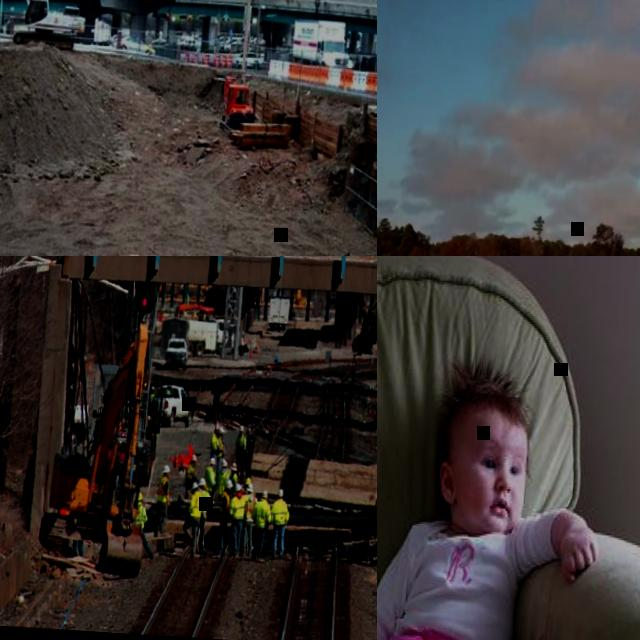Hardhat: (230, 462, 239, 472), (162, 464, 171, 473), (227, 479, 235, 489), (199, 477, 207, 487), (277, 488, 285, 497), (210, 457, 218, 466), (137, 490, 143, 501), (262, 490, 270, 498), (191, 482, 199, 490), (235, 484, 242, 492), (218, 428, 226, 435), (222, 461, 228, 468), (246, 483, 252, 490), (239, 425, 245, 432), (214, 423, 220, 430), (191, 453, 197, 460), (150, 386, 155, 391), (246, 428, 251, 433)
NO-Hardhat: (445, 377, 533, 447)
NO-Mask: (466, 491, 521, 535)
NO-Safety Vest: (396, 527, 519, 640), (246, 434, 254, 453)
Person: (377, 366, 609, 640), (132, 488, 165, 560), (182, 476, 205, 557), (194, 477, 218, 554), (225, 484, 249, 558), (249, 490, 274, 561), (269, 488, 292, 559), (154, 463, 175, 537), (215, 479, 234, 558), (240, 486, 258, 561), (177, 452, 198, 499), (234, 424, 249, 482), (244, 427, 257, 482), (204, 457, 218, 498), (217, 459, 230, 500), (371, 472, 377, 542), (216, 426, 228, 460), (210, 421, 221, 458), (71, 537, 87, 557), (228, 462, 240, 485), (148, 385, 156, 405), (245, 476, 253, 487)
Safety Cone: (174, 450, 181, 469), (249, 343, 255, 359), (221, 56, 228, 69), (227, 56, 234, 68), (253, 332, 257, 351), (214, 55, 220, 67), (193, 54, 200, 64), (204, 55, 211, 65), (185, 52, 191, 62), (256, 341, 261, 353)
Safety Vest: (251, 499, 273, 528), (271, 499, 292, 525), (230, 492, 248, 520), (199, 489, 215, 519), (243, 493, 258, 522), (188, 490, 204, 517), (157, 474, 171, 503), (135, 501, 150, 528), (205, 465, 218, 492), (218, 468, 230, 497), (235, 433, 249, 455), (220, 489, 232, 513), (186, 463, 197, 481), (210, 433, 220, 452), (218, 436, 227, 457), (231, 473, 239, 483), (149, 392, 155, 403)
vehicle: (36, 315, 163, 577), (217, 76, 294, 149), (0, 0, 91, 56), (290, 17, 358, 70), (160, 315, 236, 360), (149, 381, 197, 428), (162, 336, 190, 369), (268, 297, 293, 332), (115, 34, 157, 54), (235, 51, 260, 69)
